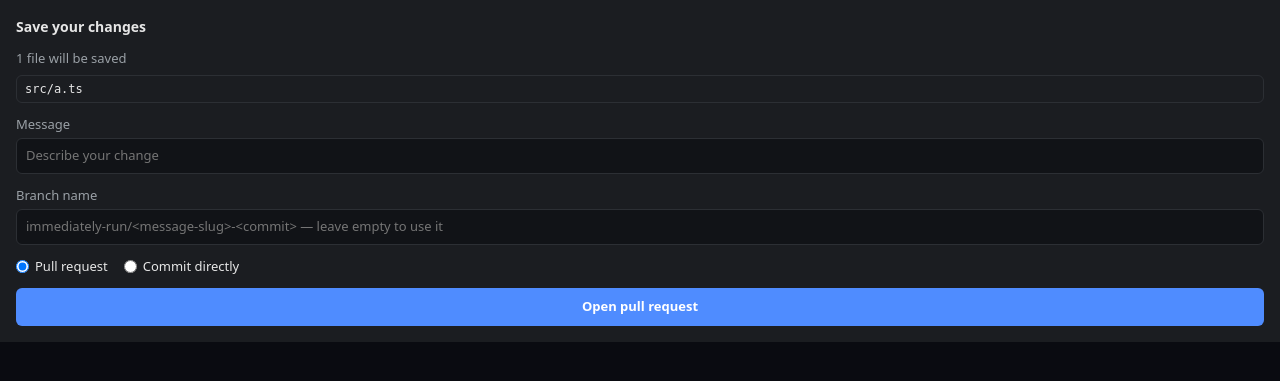
Scenario: Contribute — the branch-name input (R3-985) › an invalid name shows the reason inline and disables save
The image size is (1280, 381).
Replace the text in the field with placeholder "leave empty to use it" with "feature/~bad:name" at (640, 227), box left=16, top=209, right=1264, bottom=244
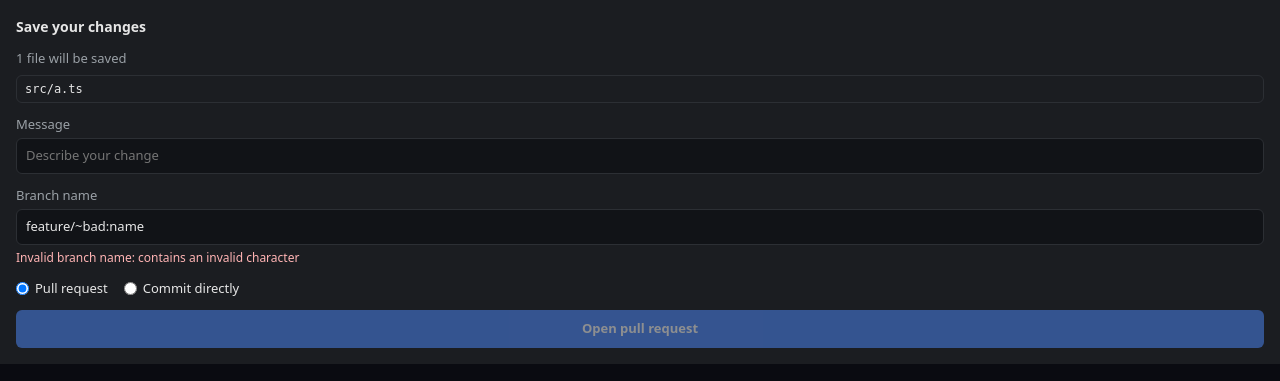
Result: the text "Invalid branch name: contains an invalid character" is shown at left=16, top=248, right=299, bottom=266
Result: the button "Open pull request" is disabled at left=16, top=310, right=1264, bottom=348
